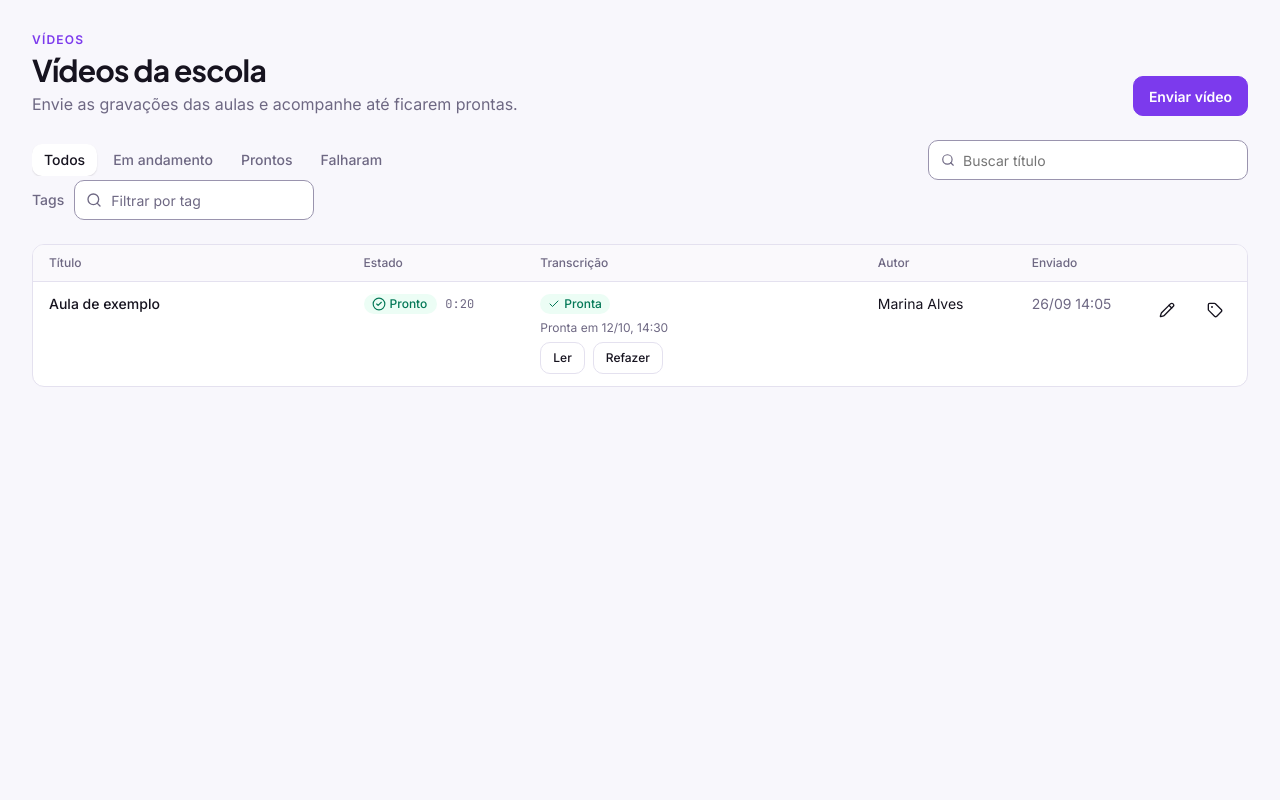
Test: video-transcription-restart › closes the confirmation on a refusal, shows the message in the cell and keeps the earlier state
The width and height of the screenshot is (1280, 800).
Click the button with aria-label "Refazer Aula de exemplo".
click(628, 358)  # box left=593, top=342, right=663, bottom=374
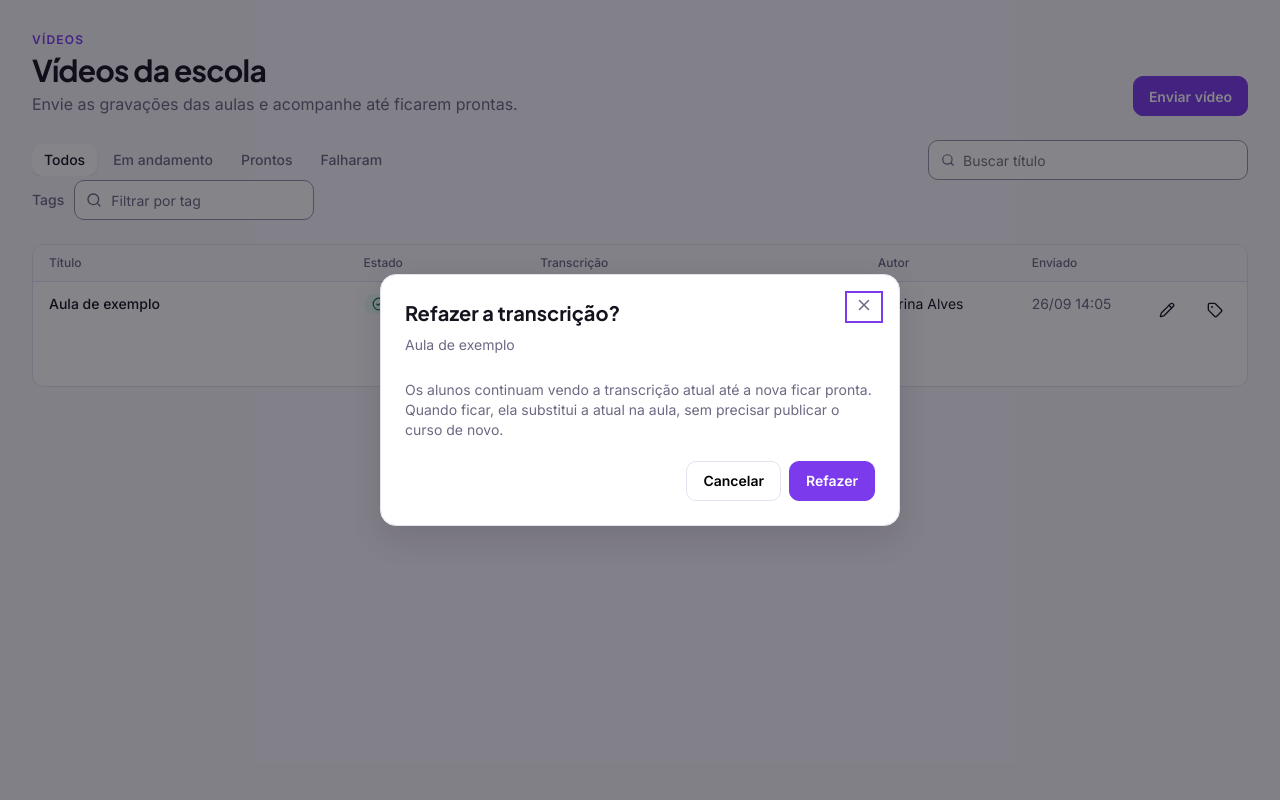
Click the button "Refazer".
click(832, 481)  # box left=789, top=461, right=875, bottom=501
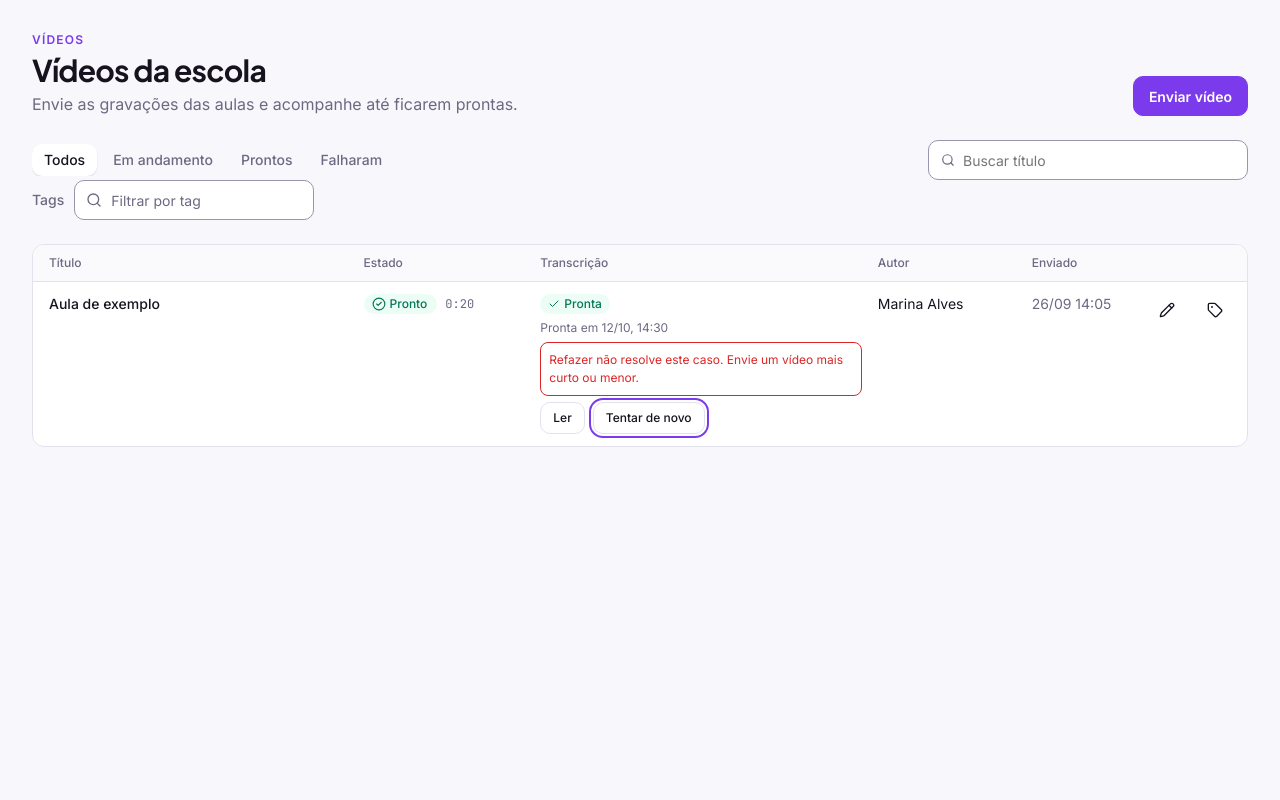
Expected: the text "Pronta" is shown, left=540, top=294, right=610, bottom=314
Expected: the message reads "Refazer não resolve este caso. Envie um vídeo mais curto ou menor.", left=549, top=352, right=843, bottom=385
Expected: the dialog is gone
